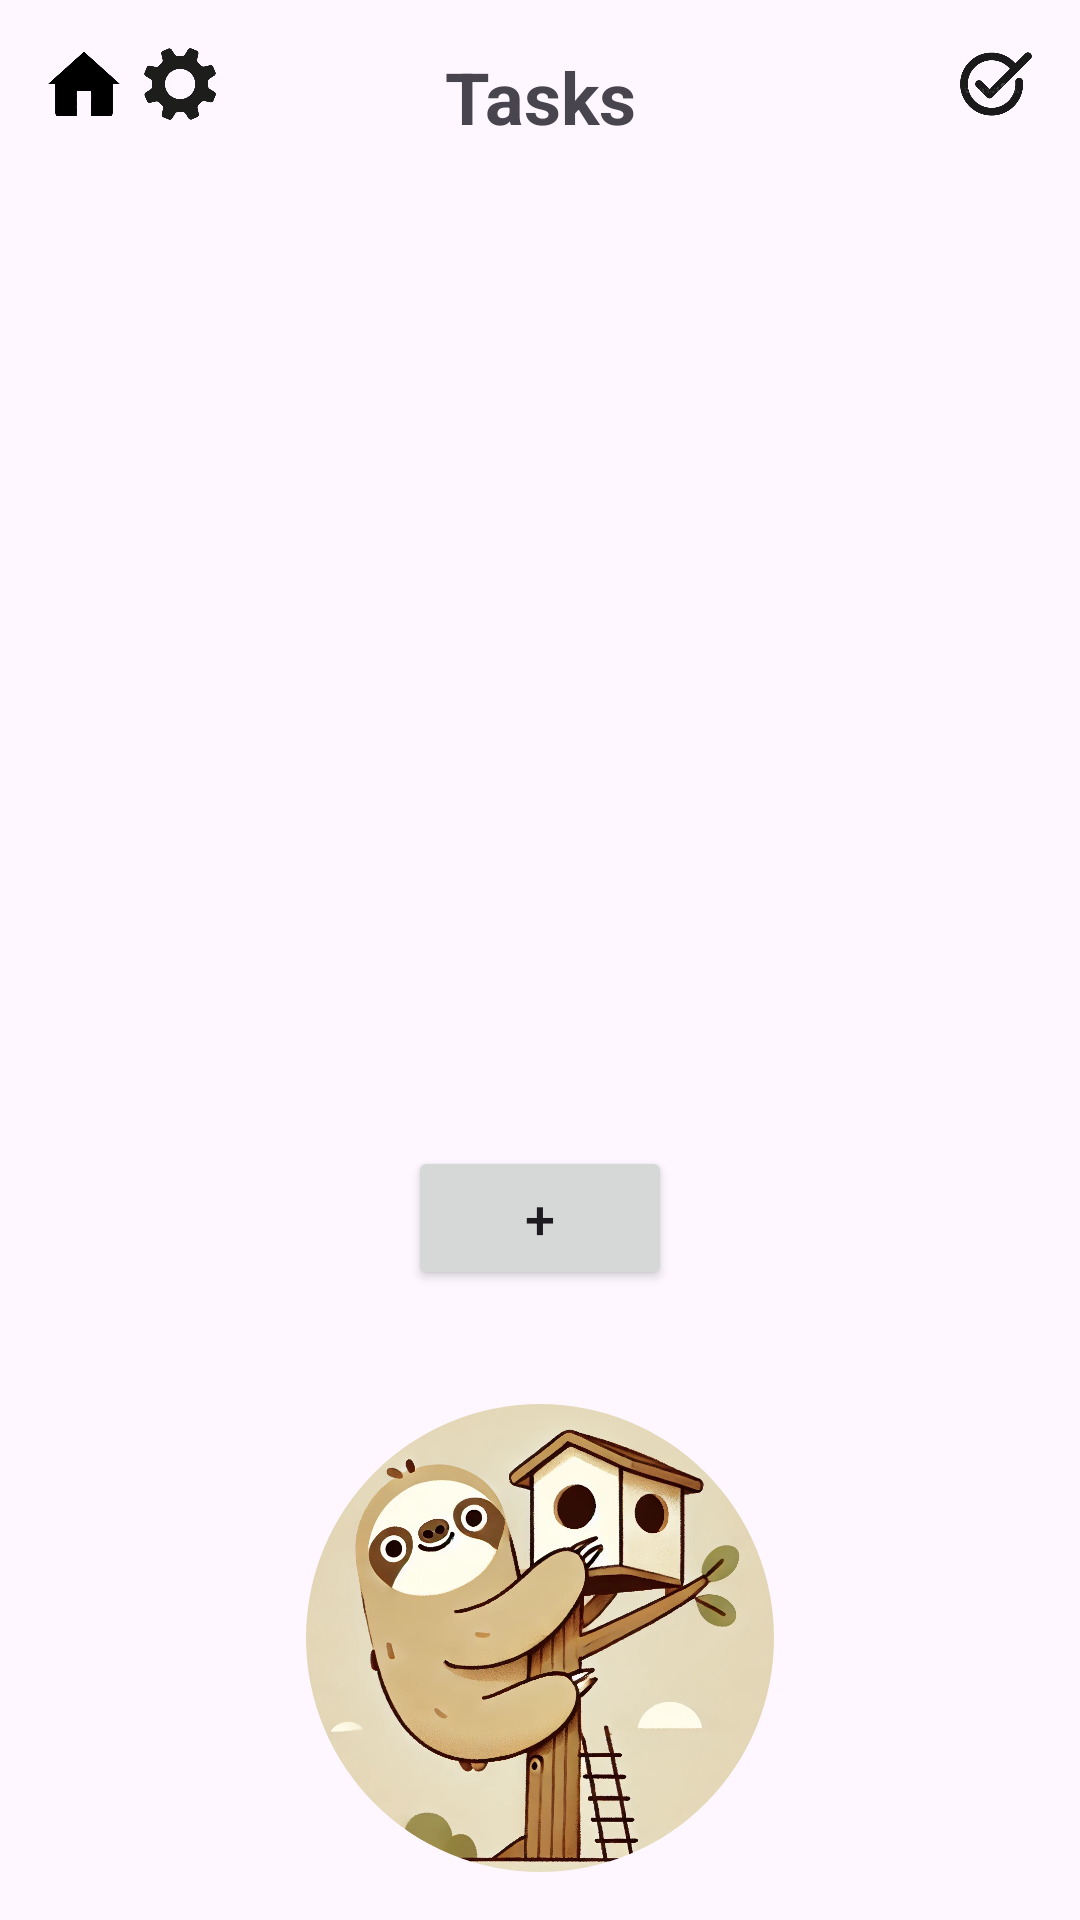

Point at icon controls on the screen. Image size 1080px x 1920px, points as point (x, y).
Home button: point (84, 84)
Settings Button: point (180, 84)
Tasks button: point (996, 84)
